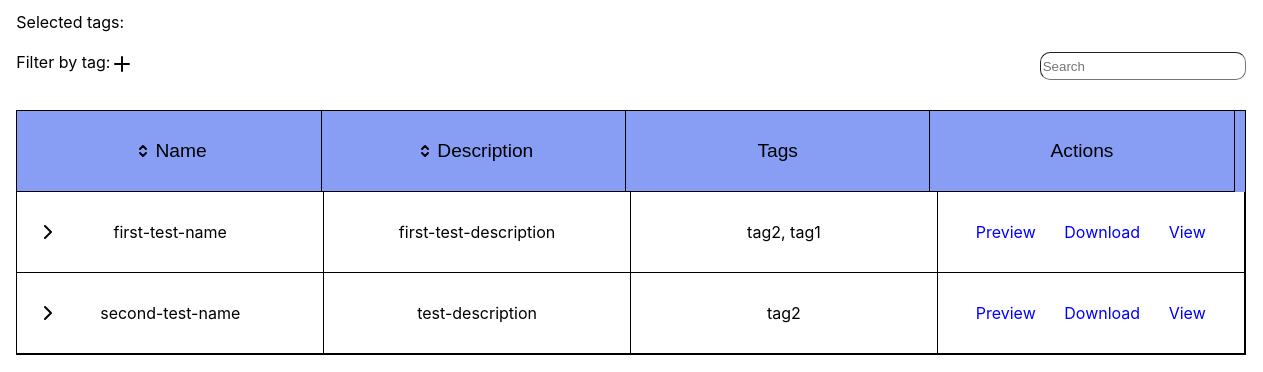
models searching › only second model should be displayed
This screenshot has width=1263, height=372.
In the field with placeholder "Search": (1143, 66) [1040,52,1246,80], type "second-test-name"
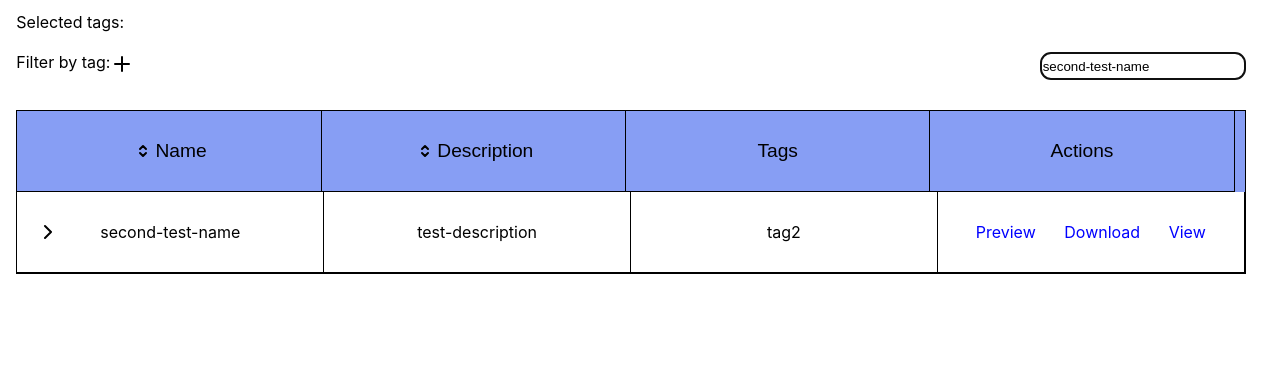
Result: the text "first-test-name" is gone
Result: the text "second-test-name" is shown at [17,192,324,273]
